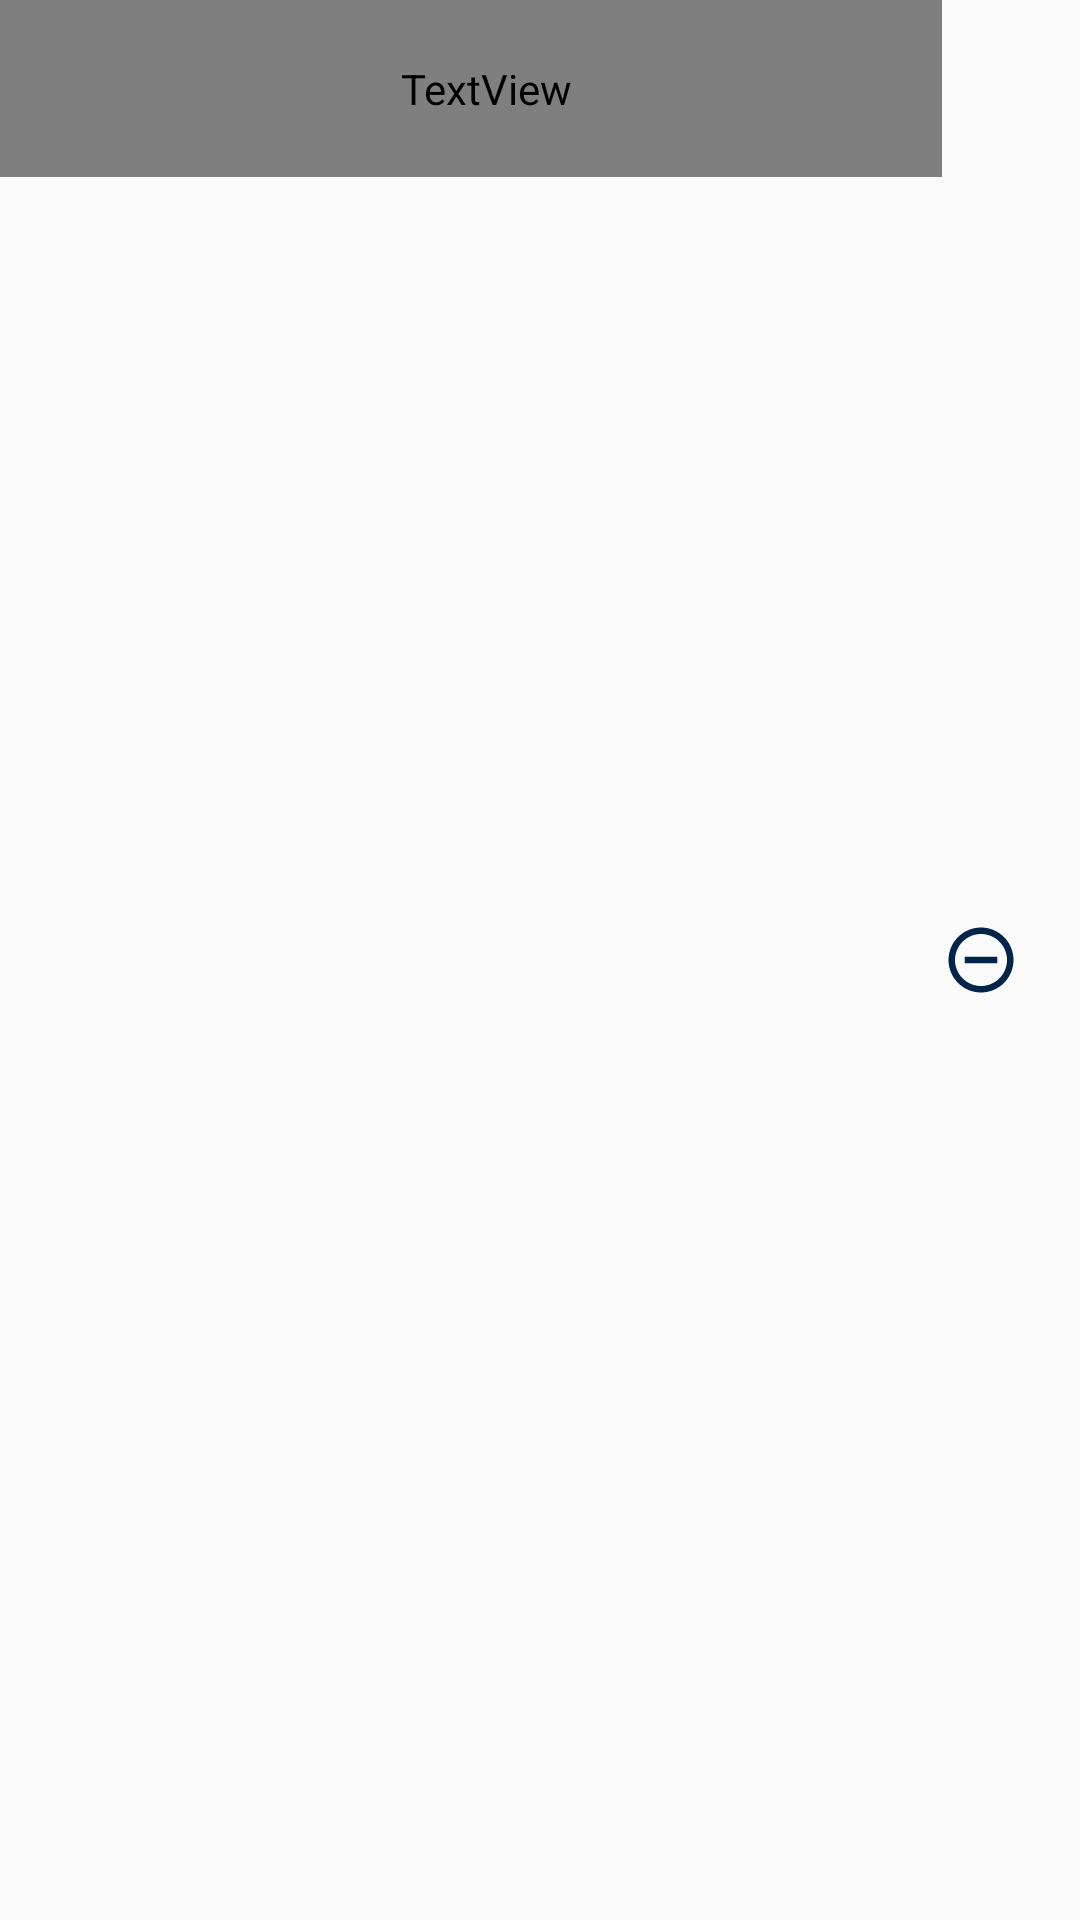

Locate icon controls on the screen. Image size 1080 × 1920, boxes as (x1, y1, x2, y2).
remove circle: (948, 927, 1014, 993)
